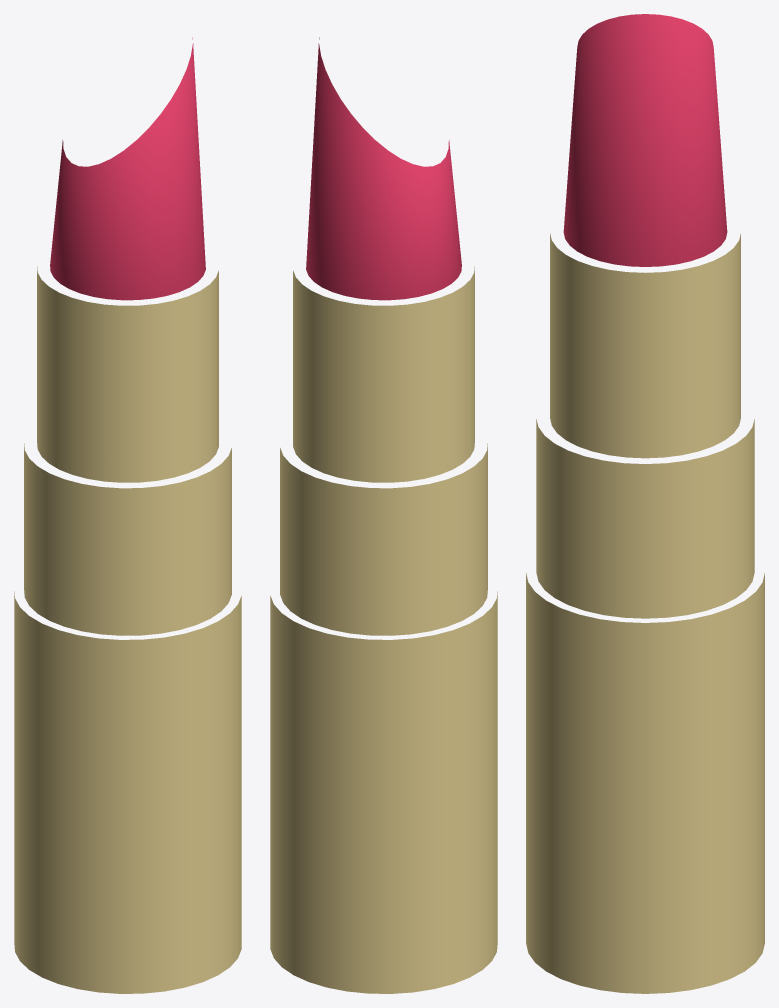
Rendered from lipstick.glb.
3 views of the same model, side by side, from view 1: azimuth 30°, elevation 25°; view 2: azimuth 150°, elevation 25°; view 3: azimuth 270°, elevation 25° (orthographic). The views are drawn at different scales.
Parts seen in each view (by area): view 1: LuxuryLipstick; view 2: LuxuryLipstick; view 3: LuxuryLipstick.
Part boxes in pixels (bbox=[...]): LuxuryLipstick: bbox=[14, 37, 241, 993]; LuxuryLipstick: bbox=[270, 37, 497, 993]; LuxuryLipstick: bbox=[526, 14, 764, 993].
Size of the model in its own units: 0.7 by 3.1 by 0.7.
